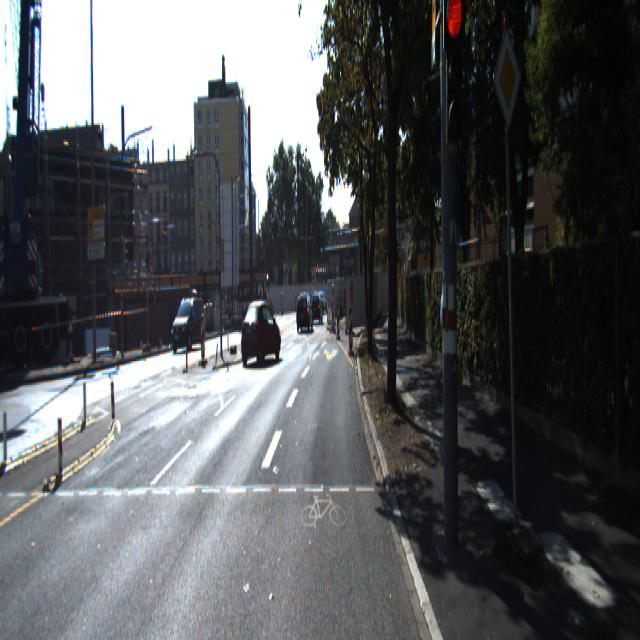Car: (239, 297, 282, 364), (170, 290, 205, 348), (296, 292, 312, 329)
